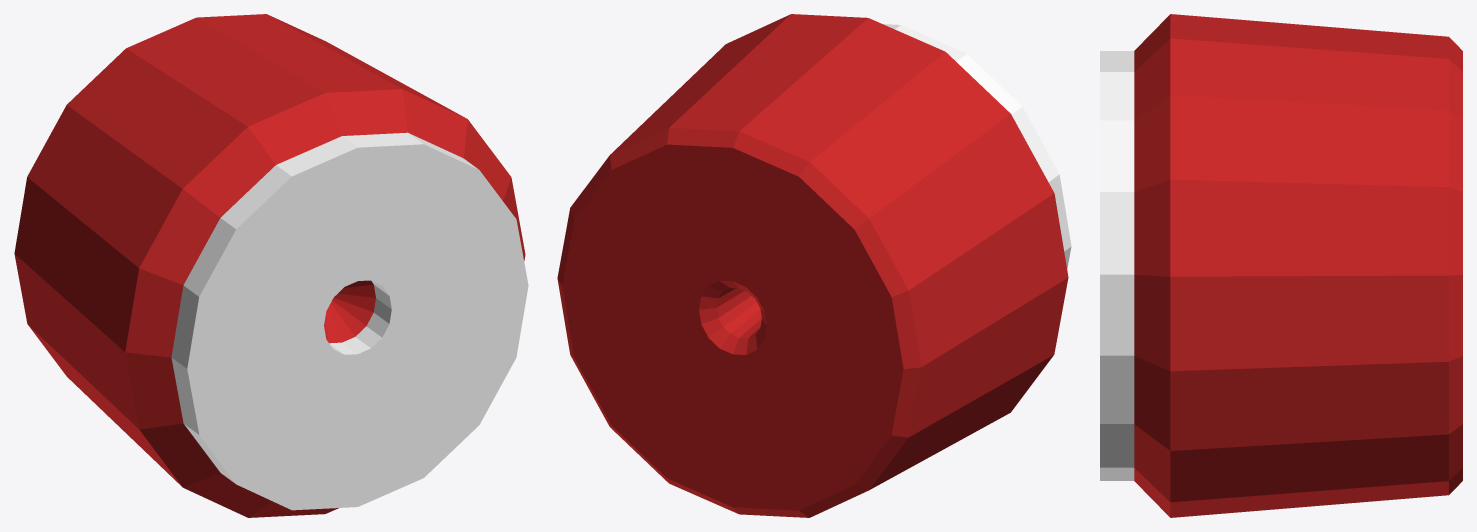
3 renders of one model, left to right at view 1: azimuth 30°, elevation 25°; view 2: azimuth 150°, elevation 25°; view 3: azimuth 270°, elevation 25°, orthographic. The views are drawn at different scales.
Visible parts, largest first — view 1: MoText_1; view 2: MoText_1; view 3: MoText_1.
Part boxes in pixels (box(x1,y1,x2,y2)): MoText_1: box(14, 14, 528, 517); MoText_1: box(557, 14, 1071, 517); MoText_1: box(1100, 14, 1462, 517).
Bounding box in the file's own units: 179 × 180 × 130.
